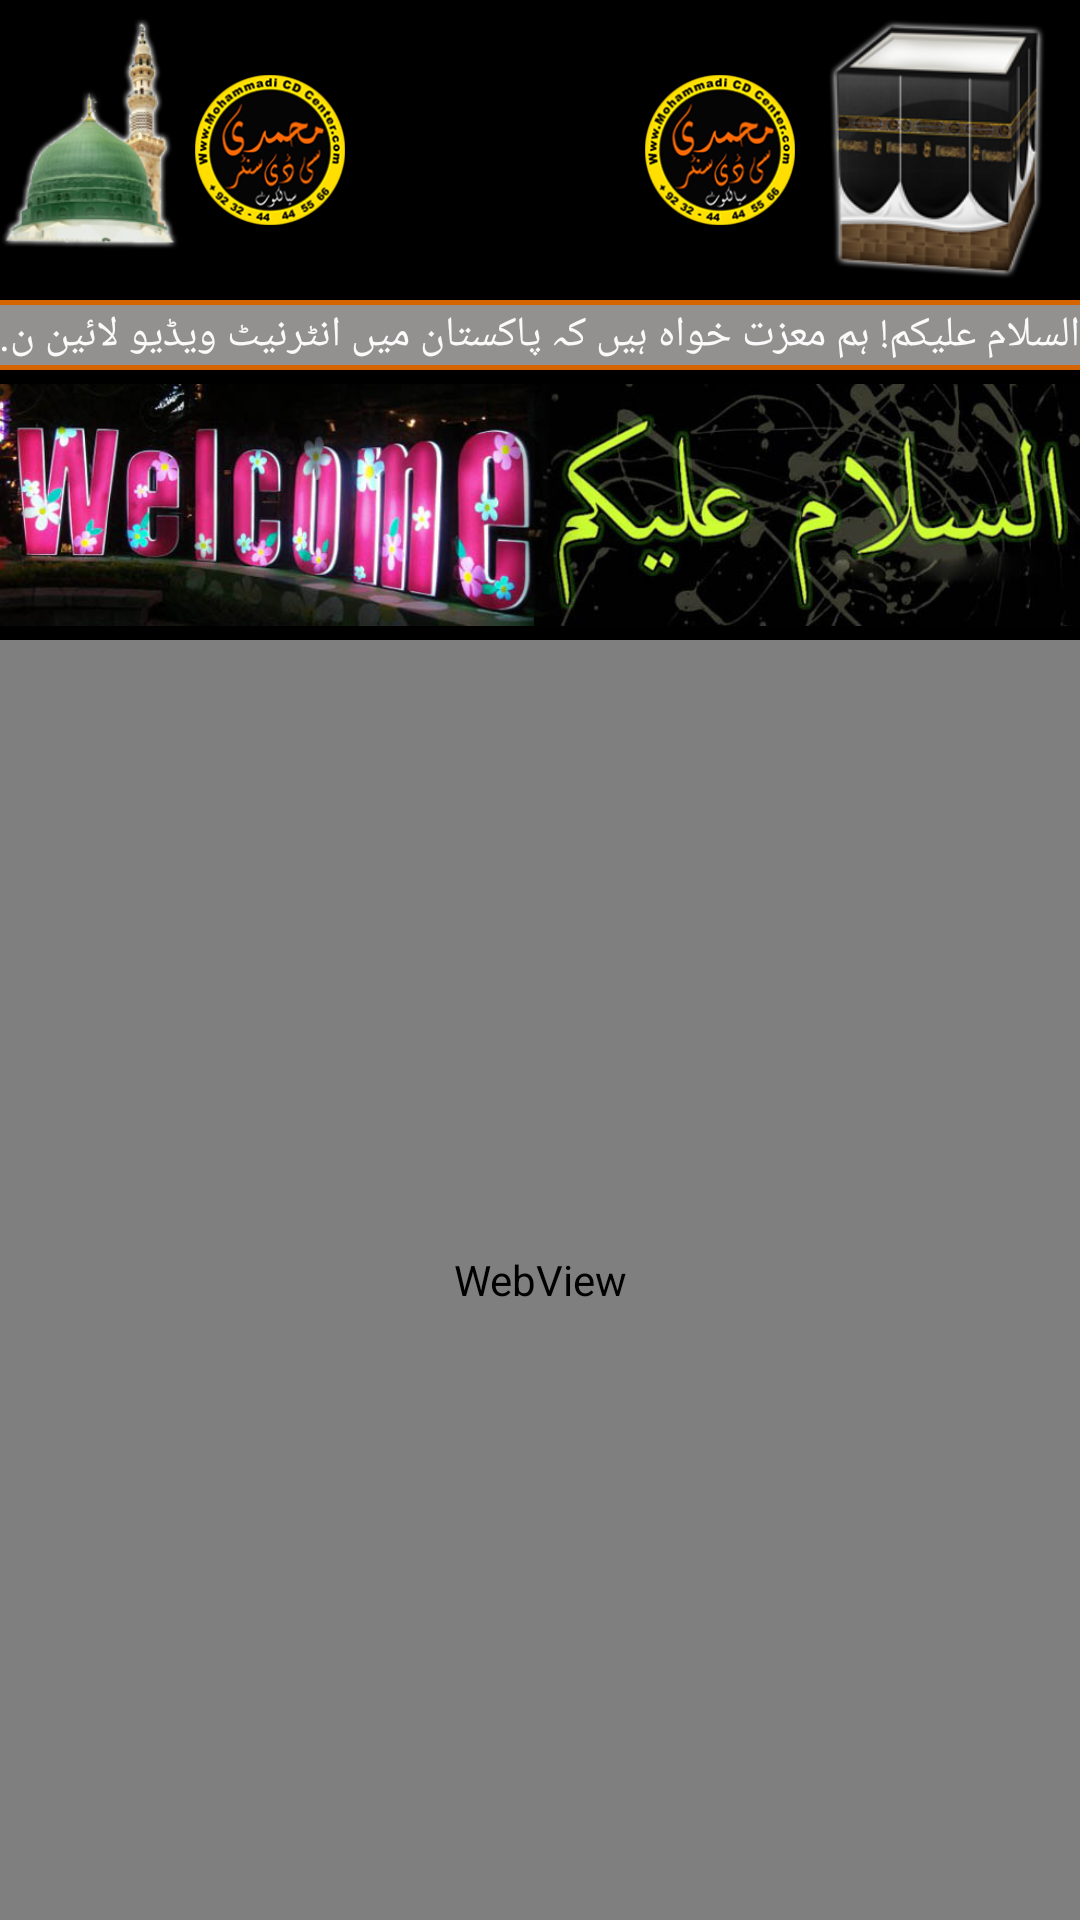

Where to tap for icons on this 1080*1920 app screen, as [x,y]:
makkah: [937,149]
roza rasool: [90,134]
